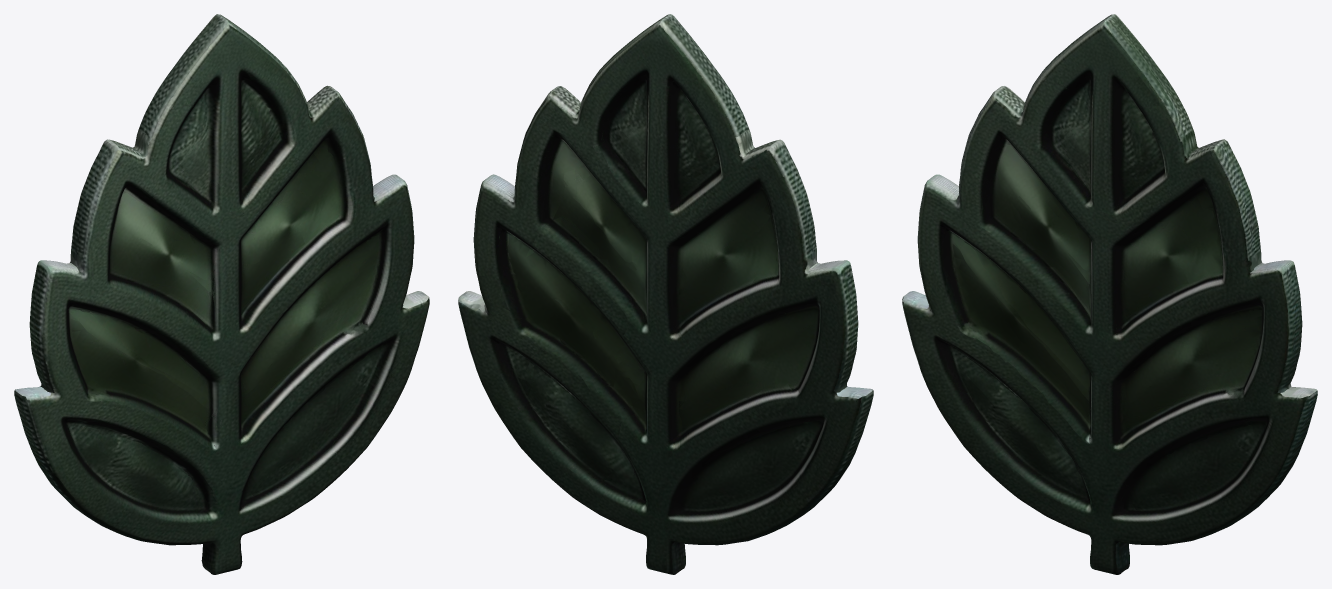
Rendered from your-file.glb.
3 renders of one model, left to right at view 1: azimuth 30°, elevation 25°; view 2: azimuth 150°, elevation 25°; view 3: azimuth 330°, elevation 25°, orthographic.
Visible parts, largest first — view 1: tmp9tiymm14.ply; view 2: tmp9tiymm14.ply; view 3: tmp9tiymm14.ply.
Boxes of the visible parts, bbox=[...] form: tmp9tiymm14.ply: bbox=[14, 14, 429, 574]; tmp9tiymm14.ply: bbox=[458, 14, 873, 574]; tmp9tiymm14.ply: bbox=[902, 14, 1317, 574].
Bounding box in the file's own units: 1.52 × 1.96 × 0.1009.
1 material, 1 textured.
